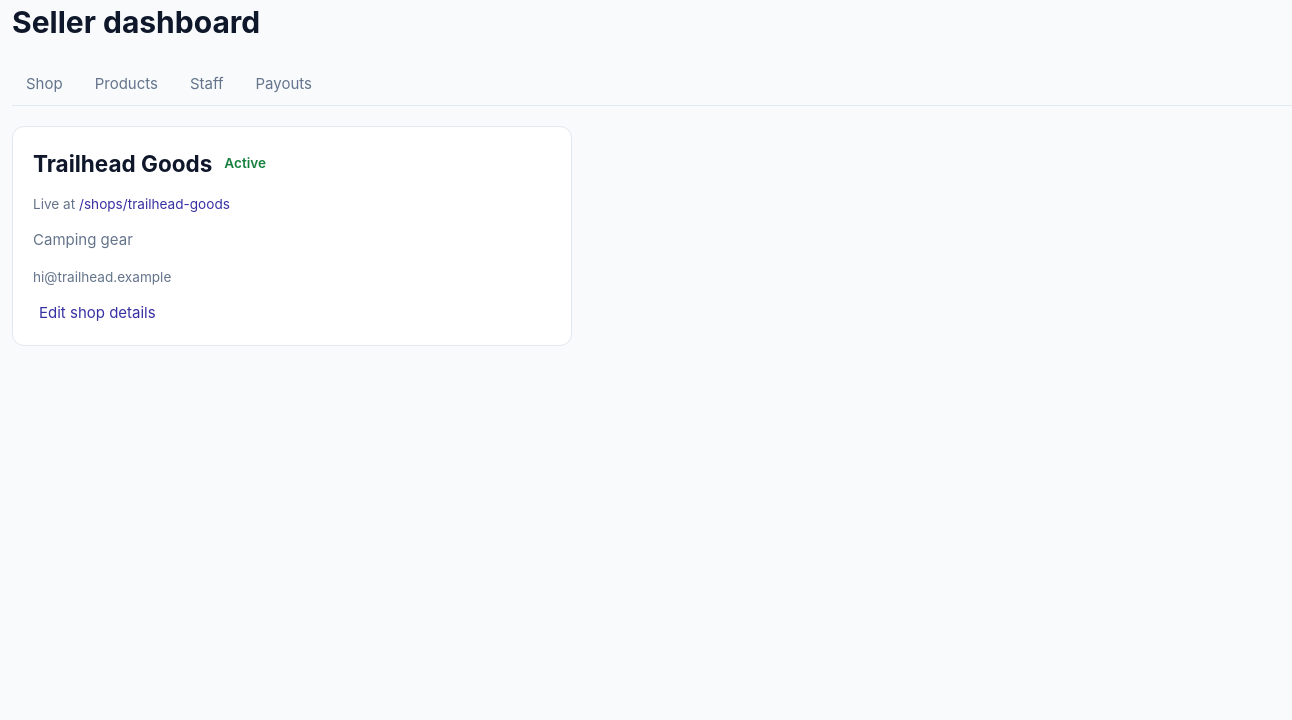
SellerDashboard › edits shop details and shows the update
Expected: the heading "Trailhead Goods" is shown, [33,147,212,180]
Click the button "Edit shop details".
click(97, 313)  # box [33,301,162,325]
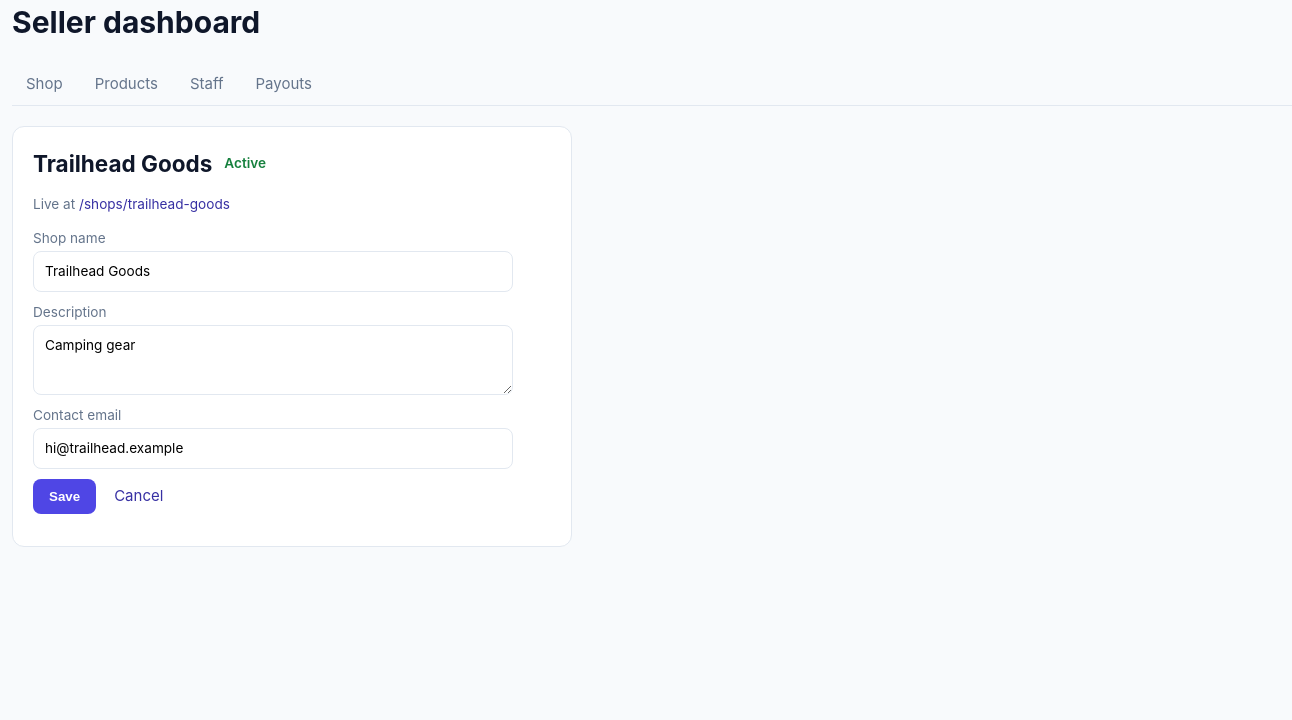
Replace the text in the field labelled "Shop name" with "Trailhead Goods Co." at (273,272), box [33,251,513,292]
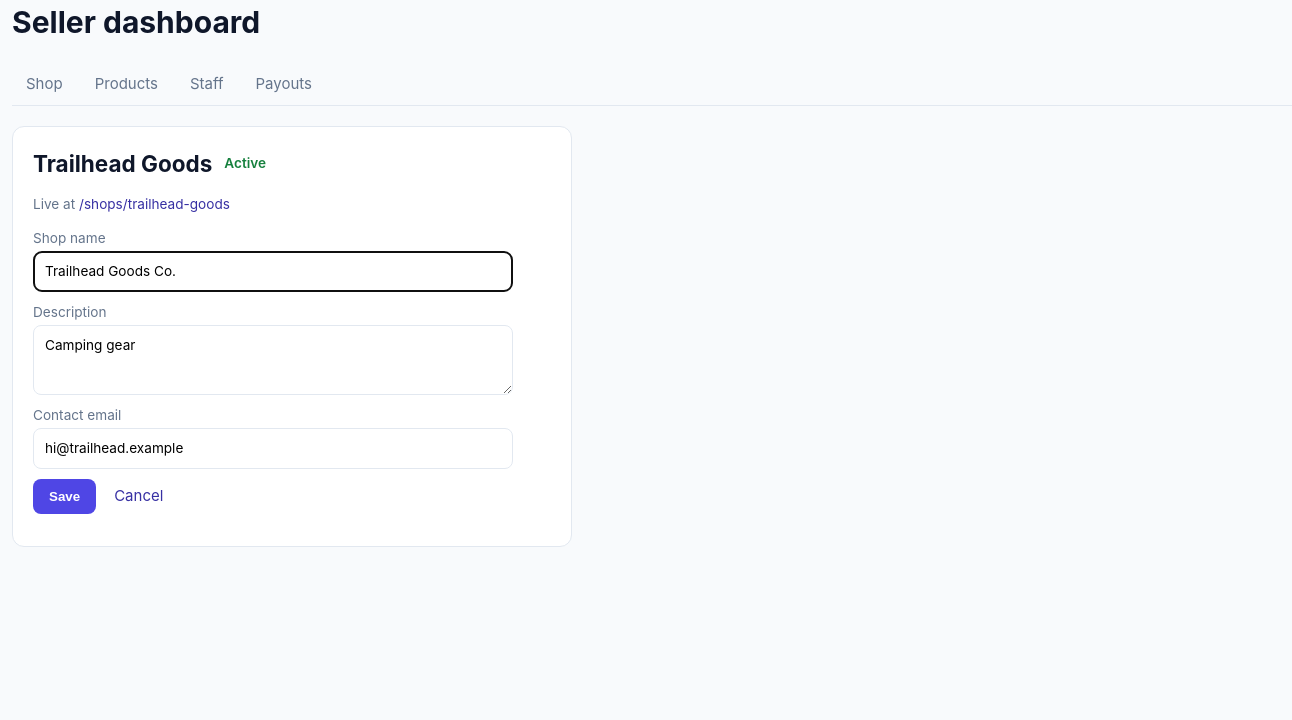
Click the button "Save".
click(65, 496)  # box [33,479,96,514]
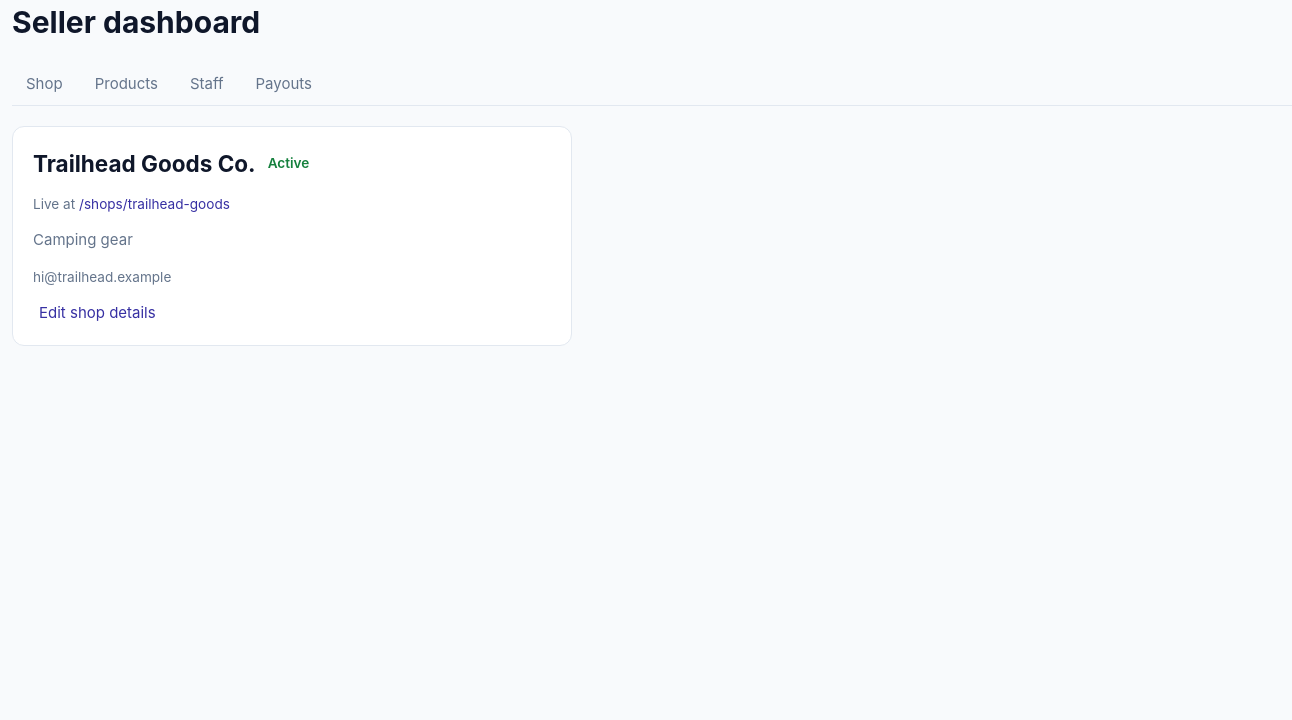
Expected: the heading "Trailhead Goods Co." is shown, [33,147,256,180]
Expected: the button "Cancel" is gone
